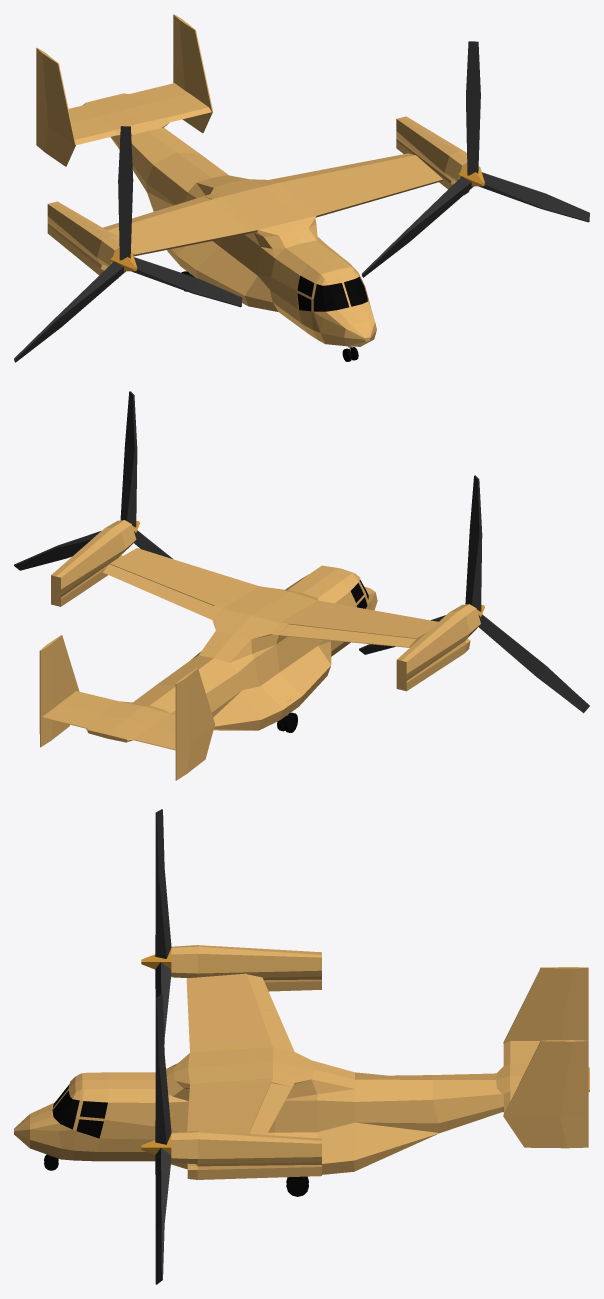
3 views of the same model, one above another, from view 1: azimuth 30°, elevation 25°; view 2: azimuth 150°, elevation 25°; view 3: azimuth 270°, elevation 25° (orthographic). The views are drawn at different scales.
Parts seen in each view (by area): view 1: Circle.001, L_propeller.001, R_propeller.001, R.001, L.001, L_Elevator.001, R_Rudder.001, L_Rudder.001; view 2: Circle.001, R_propeller.001, R.001, L.001, L_propeller.001, R_Flap2.001, L_Elevator.001, L_Flap2.001, R_Flap1.001, L_Flap1.001, R_elevator.001, L_Rudder.001 (+1 smaller); view 3: Circle.001, L.001, R.001, L_propeller.001, R_propeller.001, R_Rudder.001, L_Rudder.001, R_Flap2.001, L_Flap2.001.
Boxes of the visible parts, x1=… form: Circle.001: x1=36, y1=19, x2=443, y2=346; L_propeller.001: x1=362, y1=41, x2=589, y2=277; R_propeller.001: x1=14, y1=126, x2=242, y2=362; R.001: x1=47, y1=201, x2=119, y2=278; L.001: x1=396, y1=116, x2=469, y2=195; L_Elevator.001: x1=131, y1=83, x2=189, y2=103; R_Rudder.001: x1=36, y1=47, x2=46, y2=104; L_Rudder.001: x1=173, y1=14, x2=183, y2=71; Circle.001: x1=39, y1=548, x2=438, y2=780; R_propeller.001: x1=359, y1=475, x2=589, y2=713; R.001: x1=396, y1=604, x2=480, y2=691; L.001: x1=51, y1=520, x2=136, y2=606; L_propeller.001: x1=14, y1=391, x2=172, y2=570; R_Flap2.001: x1=280, y1=624, x2=352, y2=641; L_Elevator.001: x1=42, y1=704, x2=100, y2=728; L_Flap2.001: x1=154, y1=585, x2=213, y2=616; R_Flap1.001: x1=344, y1=631, x2=416, y2=647; L_Flap1.001: x1=103, y1=564, x2=161, y2=594; R_elevator.001: x1=133, y1=726, x2=175, y2=750; L_Rudder.001: x1=39, y1=645, x2=52, y2=699; Circle.001: x1=14, y1=967, x2=589, y2=1174; L.001: x1=171, y1=1130, x2=321, y2=1179; R.001: x1=171, y1=945, x2=321, y2=991; L_propeller.001: x1=141, y1=995, x2=171, y2=1284; R_propeller.001: x1=141, y1=809, x2=171, y2=1043; R_Rudder.001: x1=564, y1=967, x2=588, y2=1021; L_Rudder.001: x1=564, y1=1040, x2=588, y2=1094; R_Flap2.001: x1=259, y1=1008, x2=292, y2=1046; L_Flap2.001: x1=259, y1=1083, x2=292, y2=1114.
Bounding box in the file's own units: 2646 × 1053 × 2085.
